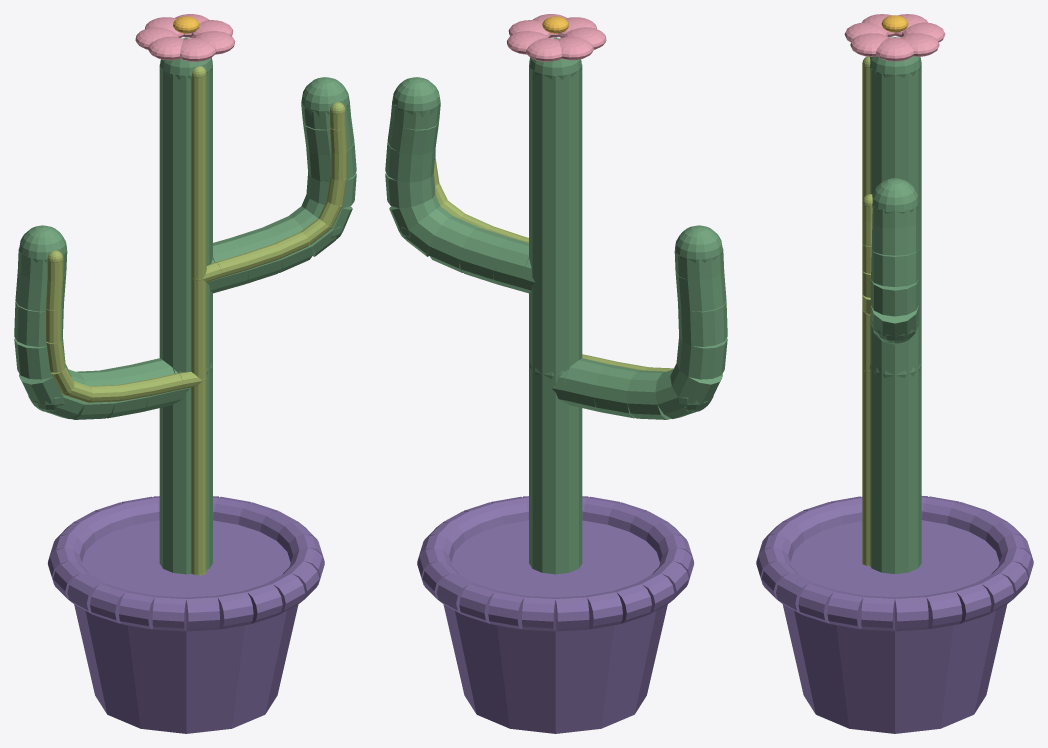
File: neon-cactus-lamp.glb
3 renders of one model, left to right at view 1: azimuth 30°, elevation 25°; view 2: azimuth 150°, elevation 25°; view 3: azimuth 270°, elevation 25°, orthographic.
Visible parts, largest first — view 1: neon-cactus-lamp; view 2: neon-cactus-lamp; view 3: neon-cactus-lamp.
Part boxes in pixels (x1,y1,x2,y2): neon-cactus-lamp: (14, 14, 356, 733); neon-cactus-lamp: (385, 14, 727, 733); neon-cactus-lamp: (756, 14, 1033, 733).
Bounding box in the file's own units: 0.7972 × 1.53 × 0.5694.
